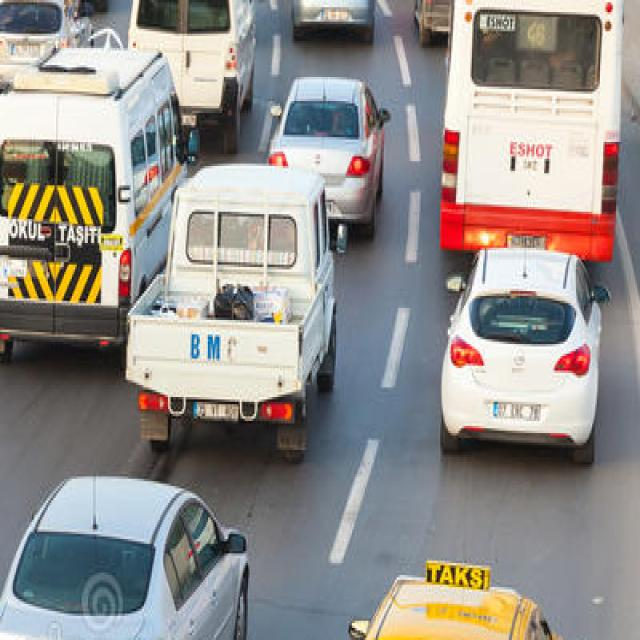bus: (435, 0, 623, 274)
car: (0, 43, 195, 373), (0, 471, 251, 640), (440, 242, 607, 474), (310, 556, 580, 640), (266, 74, 391, 250), (122, 0, 258, 152), (0, 0, 96, 103)
van: (122, 156, 349, 476)
